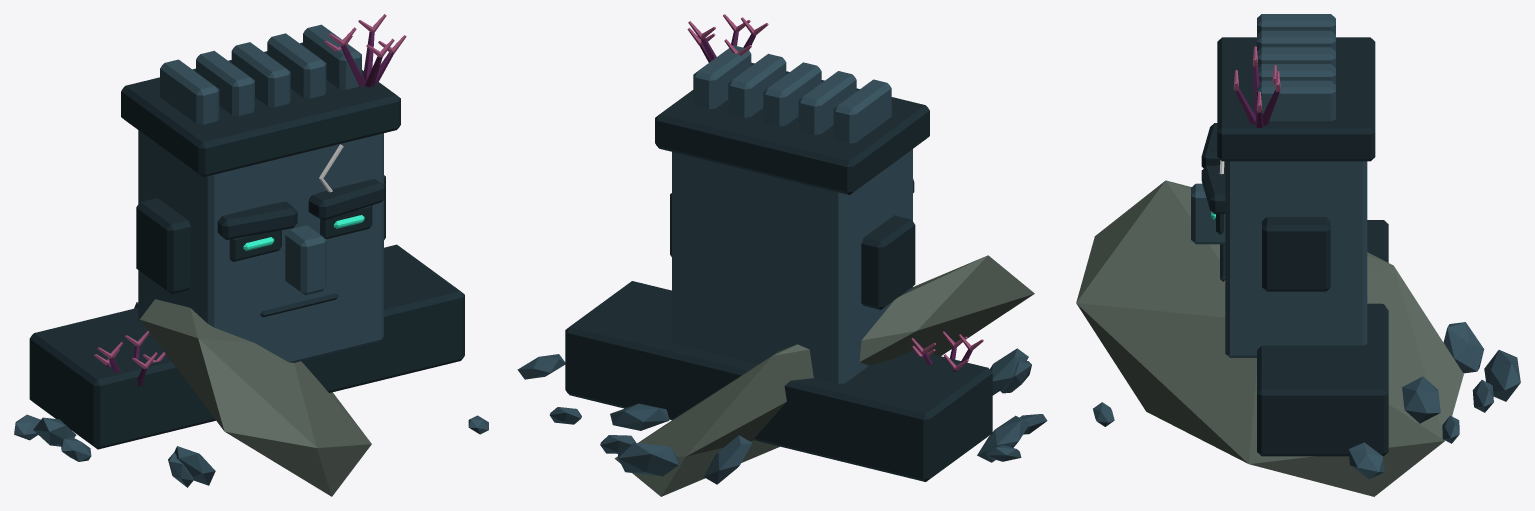
The model's file is 03_buried_colossus.obj.
The picture shows the model from 3 angles, left to right: view 1: azimuth 30°, elevation 25°; view 2: azimuth 150°, elevation 25°; view 3: azimuth 270°, elevation 25°; orthographic projection. The views are drawn at different scales.
Parts seen in each view (by area): view 1: AncientHead, BuriedShoulder, SandDrift, CrownBand, Ear, CrownTooth, Nose, CrownTooth.003, CrownTooth.002, CrownTooth.001, Brow, Brow.001 (+7 smaller); view 2: AncientHead, BuriedShoulder, SandDrift, CrownBand, Ear, CrownTooth, CrownTooth.003, CrownTooth.001, CrownTooth.002, CrownTooth.004, BrokenStone.036, BrokenStone.030 (+4 smaller); view 3: SandDrift, AncientHead, BuriedShoulder, CrownBand, Ear.001, CrownTooth.004, BrokenStone.030, CrownTooth.001, Nose, CrownTooth, CrownTooth.002, BrokenStone.036 (+6 smaller).
Part boxes in pixels (x1,y1,x2,y2): AncientHead: [138, 130, 383, 362]; BuriedShoulder: [29, 244, 464, 449]; SandDrift: [140, 299, 371, 496]; CrownBand: [121, 42, 400, 177]; Ear: [136, 198, 190, 294]; CrownTooth: [160, 59, 219, 124]; Nose: [285, 225, 326, 295]; CrownTooth.003: [267, 33, 326, 98]; CrownTooth.002: [231, 42, 290, 107]; CrownTooth.001: [196, 50, 254, 115]; Brow: [217, 201, 297, 239]; Brow.001: [308, 179, 384, 220]; AncientHead: [672, 149, 912, 383]; BuriedShoulder: [565, 281, 992, 481]; SandDrift: [614, 255, 1034, 496]; CrownBand: [655, 62, 929, 194]; Ear: [861, 215, 915, 309]; CrownTooth: [833, 79, 891, 143]; CrownTooth.003: [728, 53, 786, 117]; CrownTooth.001: [798, 71, 856, 134]; CrownTooth.002: [763, 62, 821, 126]; CrownTooth.004: [693, 45, 751, 109]; BrokenStone.036: [618, 442, 678, 476]; BrokenStone.030: [704, 435, 752, 484]; SandDrift: [1076, 180, 1463, 496]; AncientHead: [1225, 161, 1367, 357]; BuriedShoulder: [1257, 220, 1388, 456]; CrownBand: [1217, 37, 1375, 161]; Ear.001: [1262, 217, 1330, 291]; CrownTooth.004: [1257, 80, 1335, 121]; BrokenStone.030: [1443, 322, 1484, 373]; CrownTooth.001: [1257, 30, 1335, 51]; Nose: [1191, 183, 1225, 244]; CrownTooth: [1257, 14, 1335, 34]; CrownTooth.002: [1257, 47, 1335, 67]; BrokenStone.036: [1484, 350, 1520, 401].
Bounding box in the file's own units: 10.02 × 9 × 8.45.
